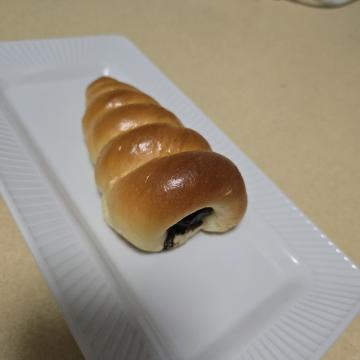cream horn: (69, 107, 274, 284)
